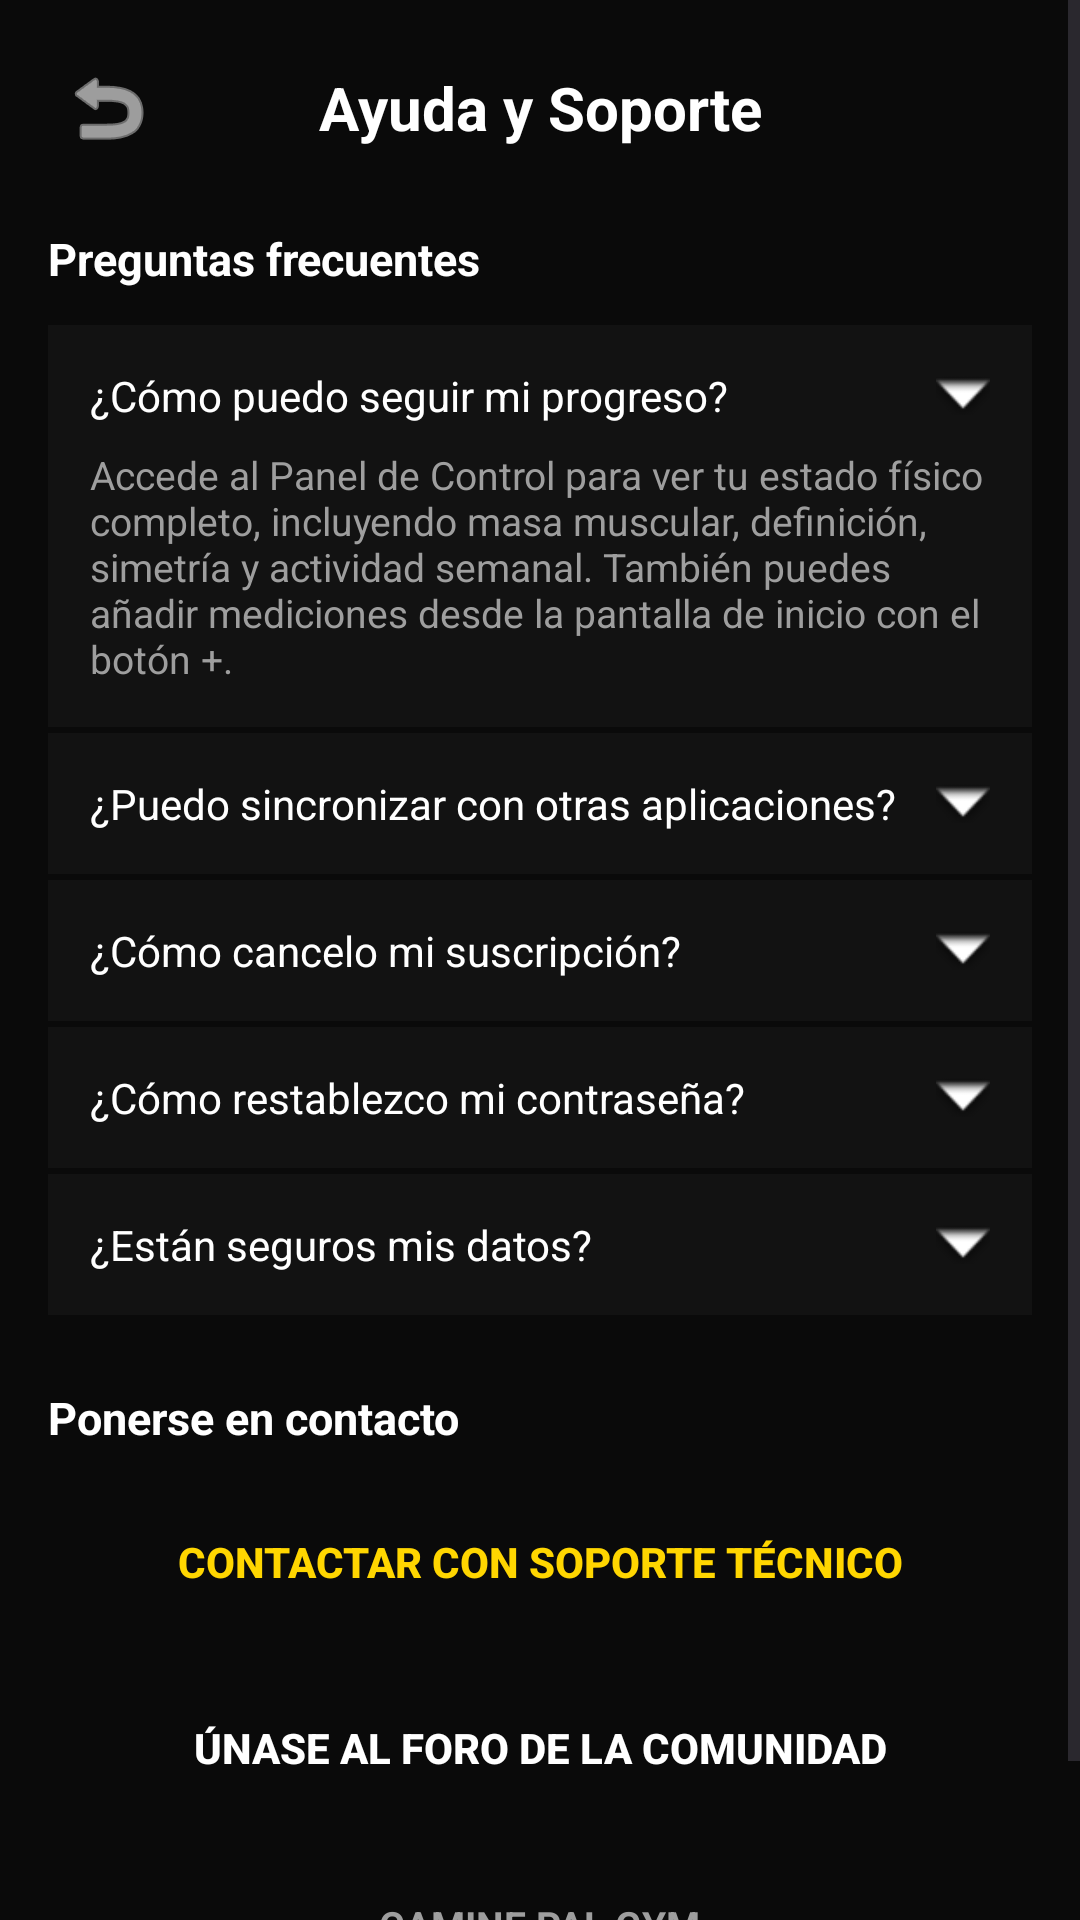

Named icons in this screenshot (1080w x 1920h) and their bounding boxes, (x1, y1, x2, y2):
arrow down float: (937, 380, 989, 409), (937, 788, 989, 817), (937, 935, 989, 964), (937, 1082, 989, 1111), (937, 1229, 989, 1258)
revert: (75, 77, 144, 140)
